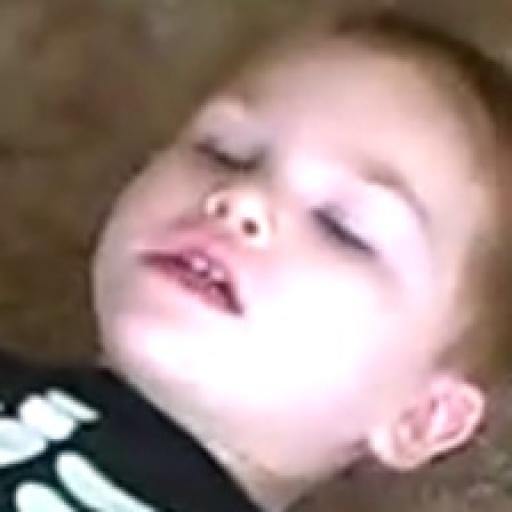Autism: (98, 20, 512, 496)
